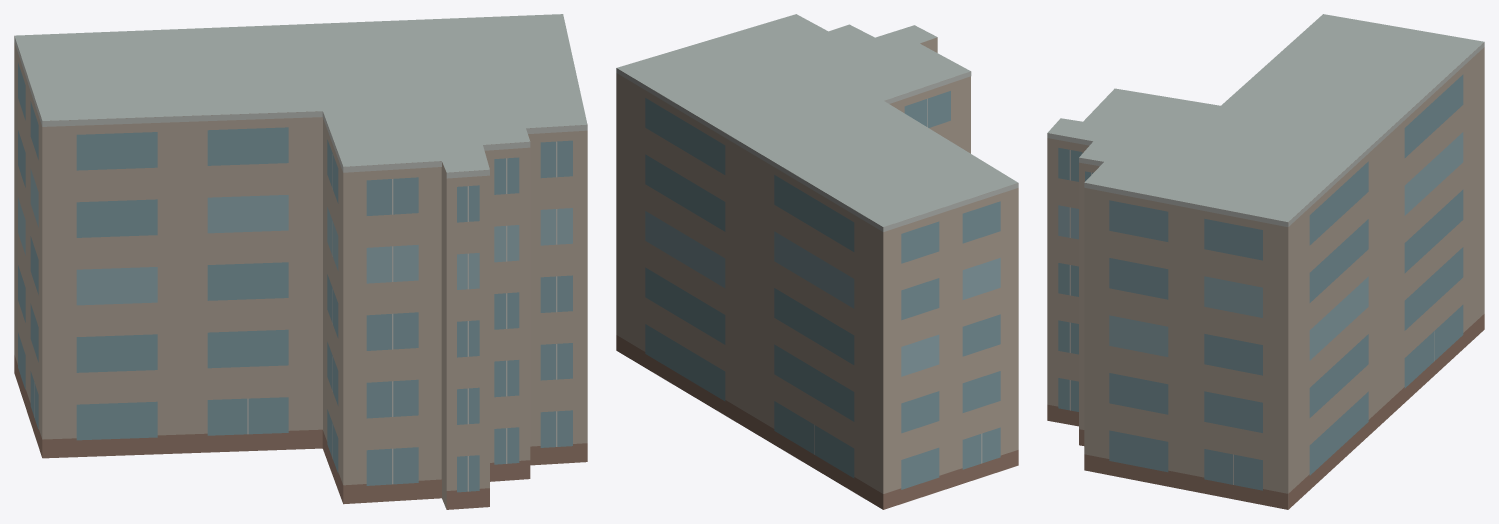
The model's file is survey-upis-32999045.glb.
The picture shows the model from 3 angles, left to right: view 1: azimuth 30°, elevation 25°; view 2: azimuth 150°, elevation 25°; view 3: azimuth 270°, elevation 25°; orthographic projection. The views are drawn at different scales.
Parts seen in each view (by area): view 1: survey-upis-32999045.tmp; view 2: survey-upis-32999045.tmp; view 3: survey-upis-32999045.tmp.
Part boxes in pixels (x1=…): survey-upis-32999045.tmp: x1=14, y1=14, x2=587, y2=509; survey-upis-32999045.tmp: x1=616, y1=14, x2=1018, y2=509; survey-upis-32999045.tmp: x1=1047, y1=14, x2=1484, y2=509.
Size of the model in its own units: 21.59 by 13.9 by 19.16.
